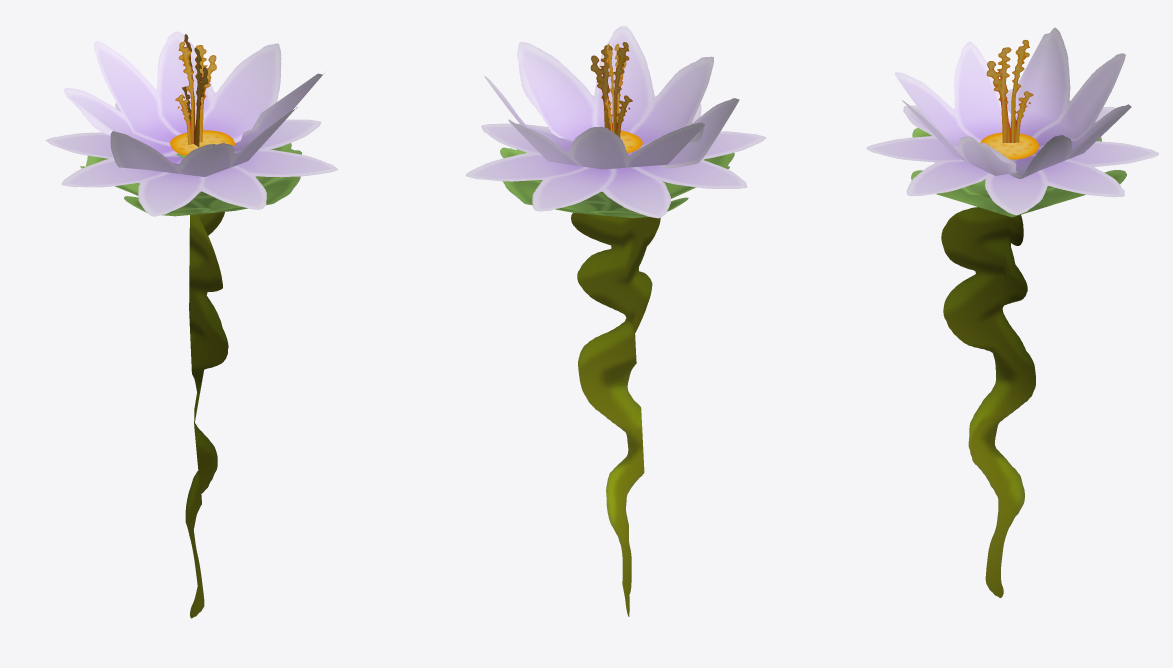
File: Ctn_waterLily_01_v02.FBX
3 views of the same model, side by side, from view 1: azimuth 30°, elevation 25°; view 2: azimuth 150°, elevation 25°; view 3: azimuth 270°, elevation 25° (orthographic). The views are drawn at different scales.
Parts seen in each view (by area): view 1: Ctn_waterLily_01_v02; view 2: Ctn_waterLily_01_v02; view 3: Ctn_waterLily_01_v02.
Part boxes in pixels (x1,y1,x2,y2): Ctn_waterLily_01_v02: [46, 31, 337, 618]; Ctn_waterLily_01_v02: [465, 26, 765, 616]; Ctn_waterLily_01_v02: [866, 27, 1158, 597].
Size of the model in its own units: 43.62 by 88.43 by 39.88.
